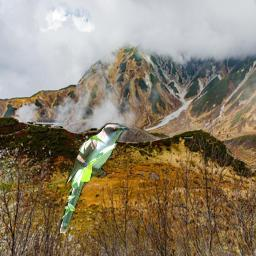Cuckoo: (59, 123, 131, 233)
